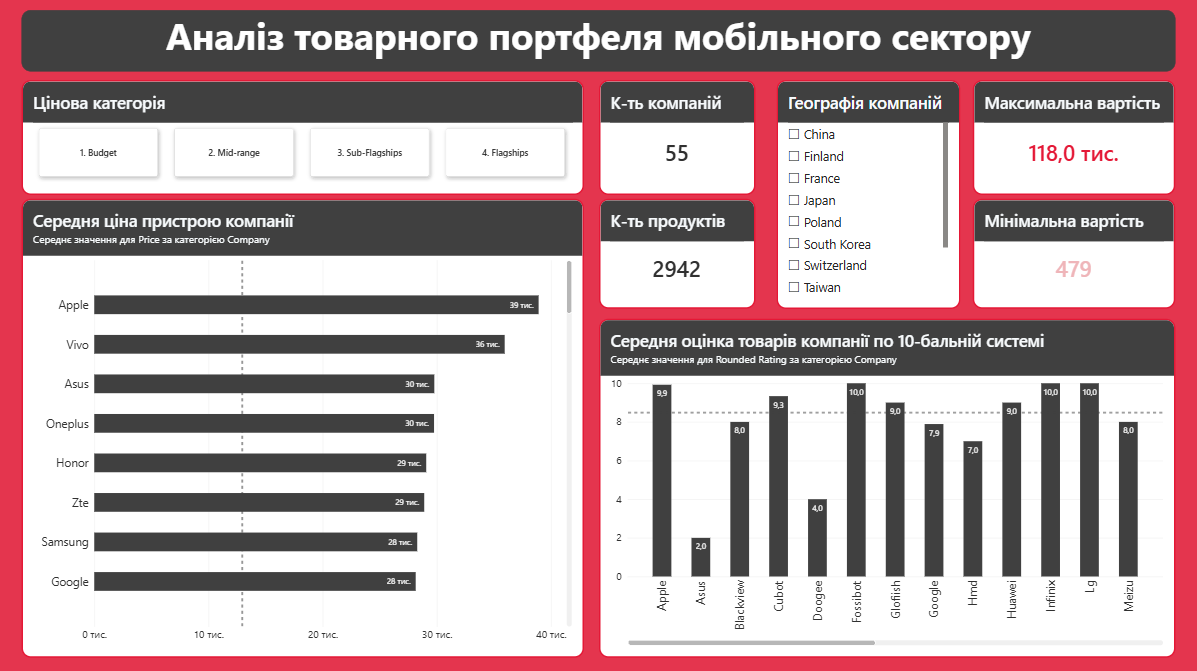

This screenshot's page, from the dashboard's own definition file:
{"tool":"powerbi","page":{"name":"Сторінка 1","canvas":[1920,1080],"ordinal":0},"visuals":[{"type":"clusteredBarChart","title":"Середня ціна пристрою компанії","fields":{"Category":["Mobiles_clean.Company"],"Y":["Avg(Mobiles_clean.Price)"]},"box":[36,318,900,734],"z":0},{"type":"card","title":"К-ть компаній","fields":{"Values":["Count(Mobiles_clean.Company)"]},"box":[960,128,250,184],"z":1000},{"type":"clusteredColumnChart","title":"Середня оцінка товарів компанії по 10-бальній системі","fields":{"Category":["Mobiles_clean.Company","Mobiles_clean.Product Name"],"Y":["Avg(Mobiles_clean.Rounded Rating)"]},"box":[960,510,922,542],"z":2000},{"type":"listSlicer","title":"Географія компаній","fields":{"Values":["Mobiles_clean.Company Country"]},"box":[1244,128,294,366],"z":3000},{"type":"card","title":"К-ть продуктів","fields":{"Values":["Count(Mobiles_clean.Product Name)"]},"box":[960,318,250,176],"z":4000},{"type":"card","title":"Максимальна вартість","fields":{"Values":["Max(Mobiles_clean.Price)"]},"box":[1558,128,324,184],"z":5000},{"type":"card","title":"Мінімальна вартість","fields":{"Values":["Min(Mobiles_clean.Price)"]},"box":[1558,318,324,176],"z":6000},{"type":"textbox","box":[36,16,1846,98],"z":7000},{"type":"advancedSlicerVisual","title":"Цінова категорія","fields":{"Values":["Mobiles_clean.Price Range"]},"box":[36,128,900,184],"z":8001}]}

Visuals, with their boxes in screenshot pixels (x1, y1, x2, y2), scaled from the page's 1920x1080 canvas onto the 1197x671 screenshot:
"Середня ціна пристрою компанії" clusteredBarChart: [22,198,584,654]
"К-ть компаній" card: [598,80,754,194]
"Середня оцінка товарів компанії по 10-бальній системі" clusteredColumnChart: [598,317,1173,654]
"Географія компаній" listSlicer: [776,80,959,307]
"К-ть продуктів" card: [598,198,754,307]
"Максимальна вартість" card: [971,80,1173,194]
"Мінімальна вартість" card: [971,198,1173,307]
textbox: [22,10,1173,71]
"Цінова категорія" advancedSlicerVisual: [22,80,584,194]
